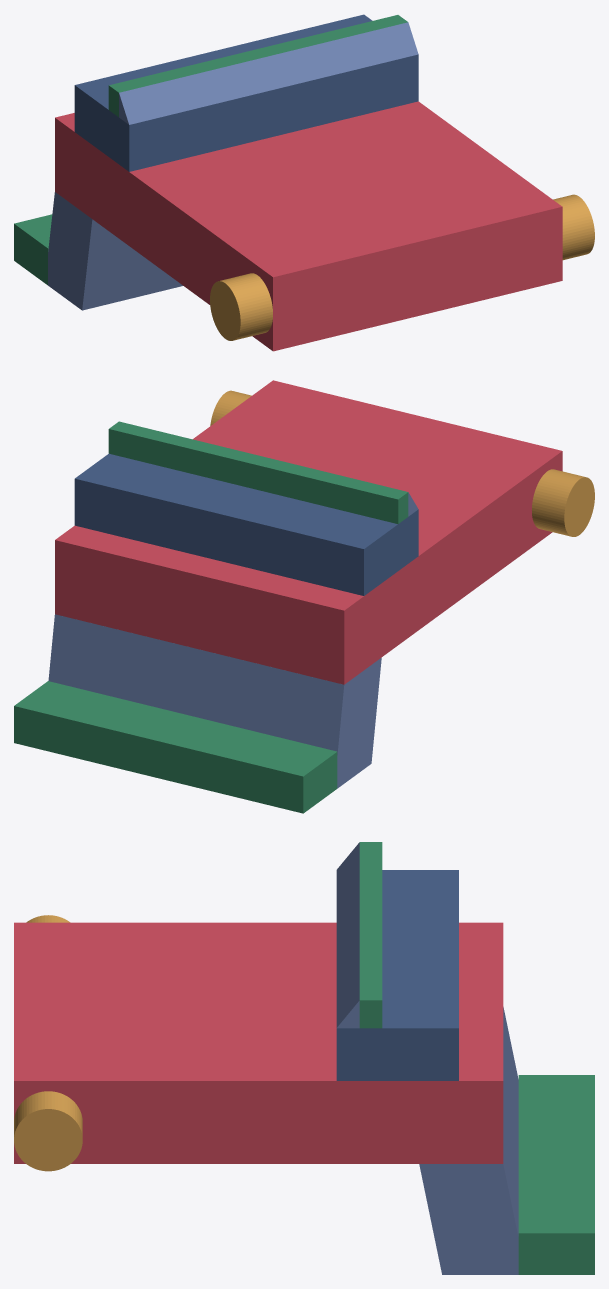
Rendered from APS2 Mag Catch.glb.
3 views of the same model, one above another, from view 1: azimuth 30°, elevation 25°; view 2: azimuth 150°, elevation 25°; view 3: azimuth 270°, elevation 25° (orthographic). The views are drawn at different scales.
Visible parts, largest first — view 1: Mesh_Mesh_head_geo.001_lambert2SG.001; view 2: Mesh_Mesh_head_geo.001_lambert2SG.001; view 3: Mesh_Mesh_head_geo.001_lambert2SG.001.
Boxes of the visible parts, x1,y1,x2,y2 form: Mesh_Mesh_head_geo.001_lambert2SG.001: (14,14,594,351); Mesh_Mesh_head_geo.001_lambert2SG.001: (14,380,594,813); Mesh_Mesh_head_geo.001_lambert2SG.001: (14,842,594,1274).
Bounding box in the file's own units: 15 × 9.9 × 19.
